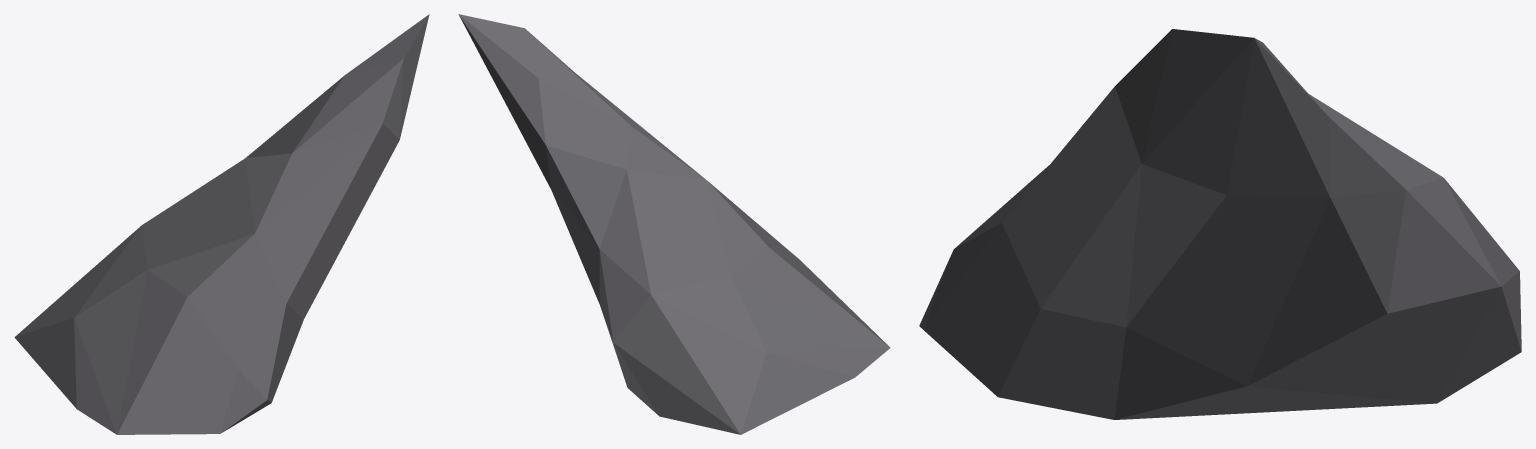
File: Rock_Sharp_l_01 6.fbx
The picture shows the model from 3 angles, left to right: view 1: azimuth 30°, elevation 25°; view 2: azimuth 150°, elevation 25°; view 3: azimuth 270°, elevation 25°; orthographic projection. The views are drawn at different scales.
Visible parts, largest first — view 1: Rock_Sharp_l_01; view 2: Rock_Sharp_l_01; view 3: Rock_Sharp_l_01.
Boxes of the visible parts, x1=… form: Rock_Sharp_l_01: x1=14, y1=14, x2=429, y2=434; Rock_Sharp_l_01: x1=458, y1=14, x2=890, y2=434; Rock_Sharp_l_01: x1=919, y1=29, x2=1521, y2=419.
Size of the model in its own units: 1158 by 851 by 807.
